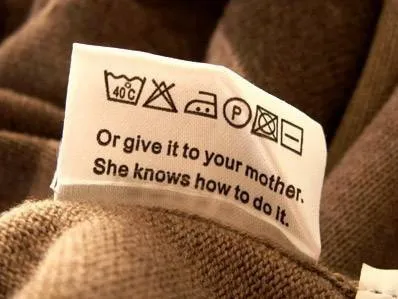ER_dry_clean_chemical: (223, 92, 252, 132)
ER_flat_dry: (279, 116, 306, 157)
ER_iron_medium_temp: (185, 84, 220, 124)
ER_no_bleach: (143, 78, 181, 116)
ER_no_tumble_dry: (252, 102, 279, 144)
ER_wash_40: (102, 64, 145, 106)
